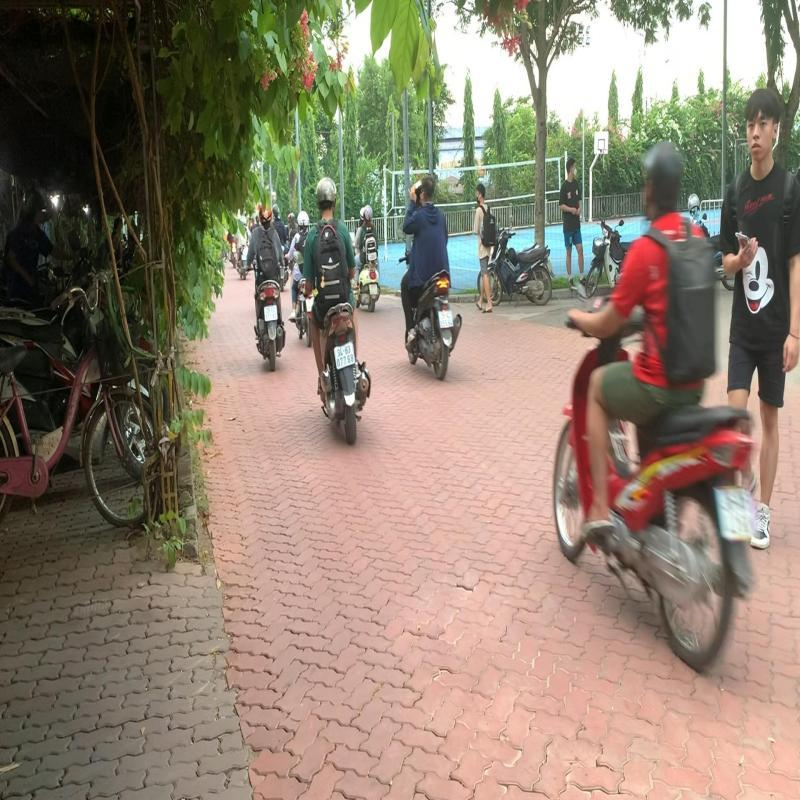nohelmet: (417, 174, 437, 204)
